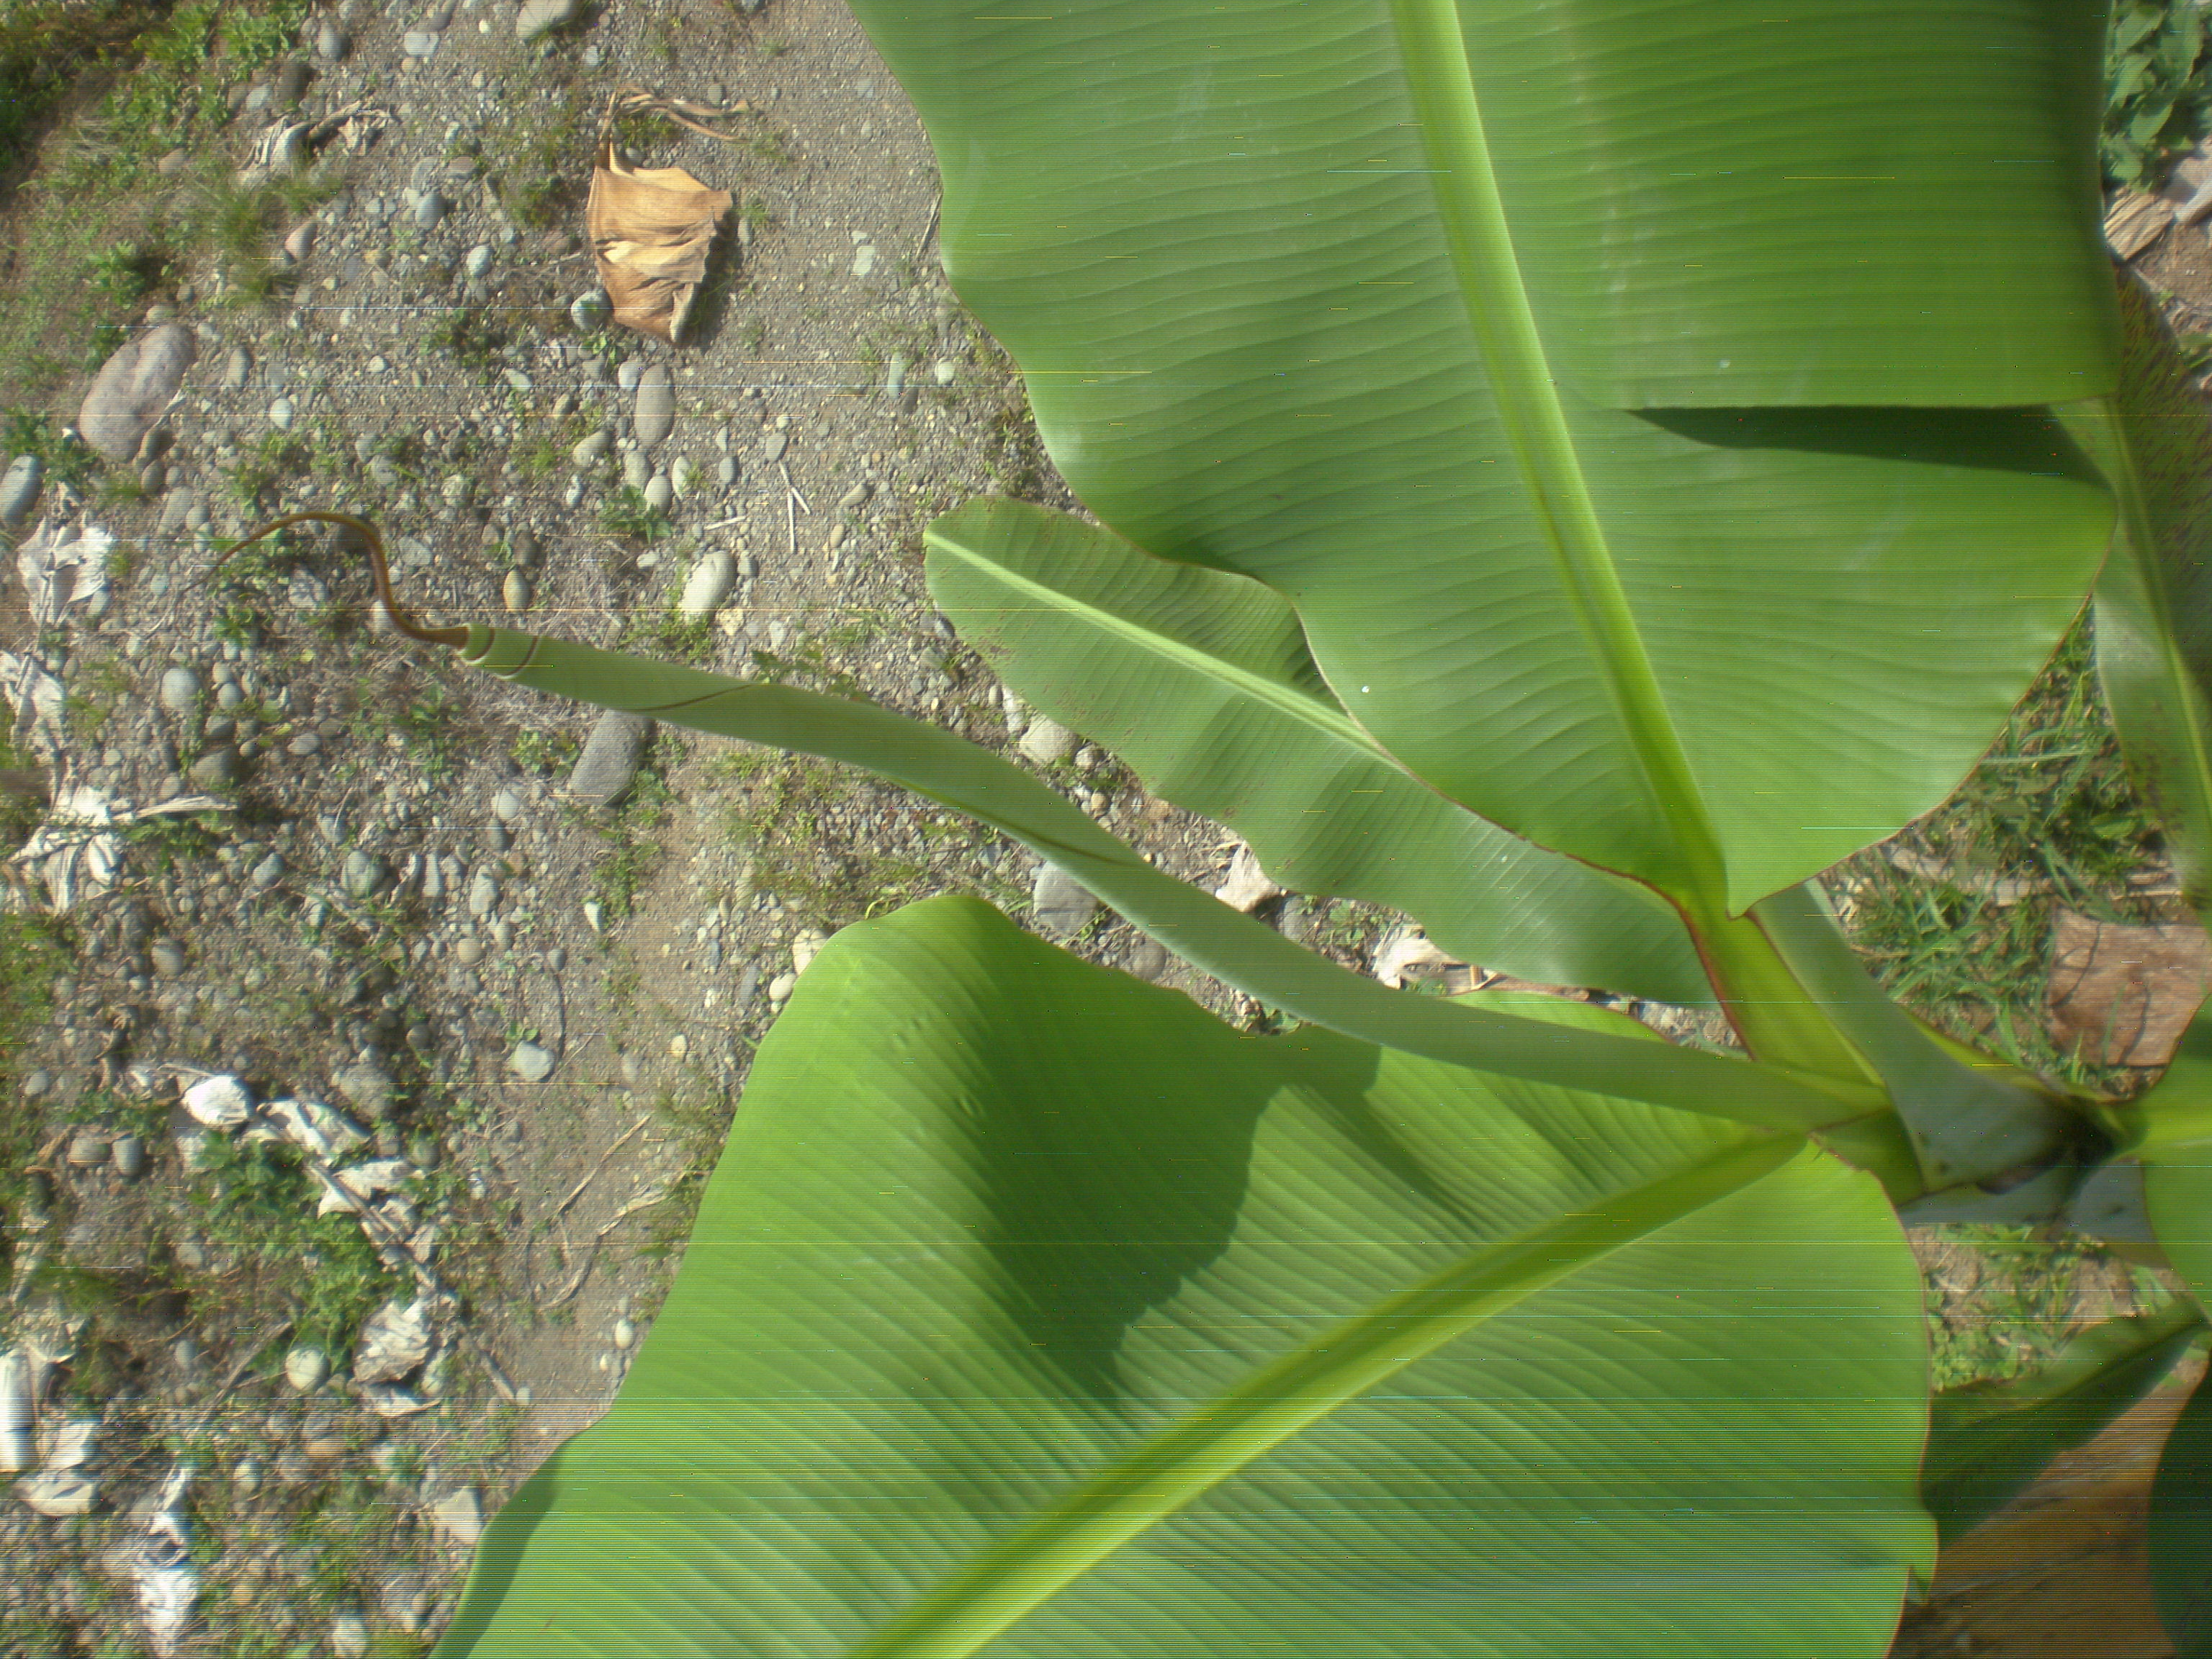candleleafs: (216, 516, 1817, 1150)
